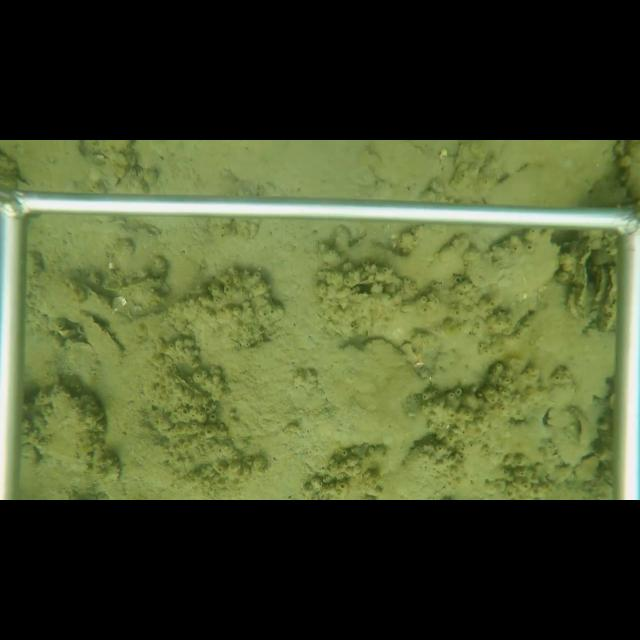Oyster-Closed: (461, 229, 565, 329), (73, 307, 127, 369), (594, 265, 616, 336)
Oyster-Open: (567, 236, 607, 319)
